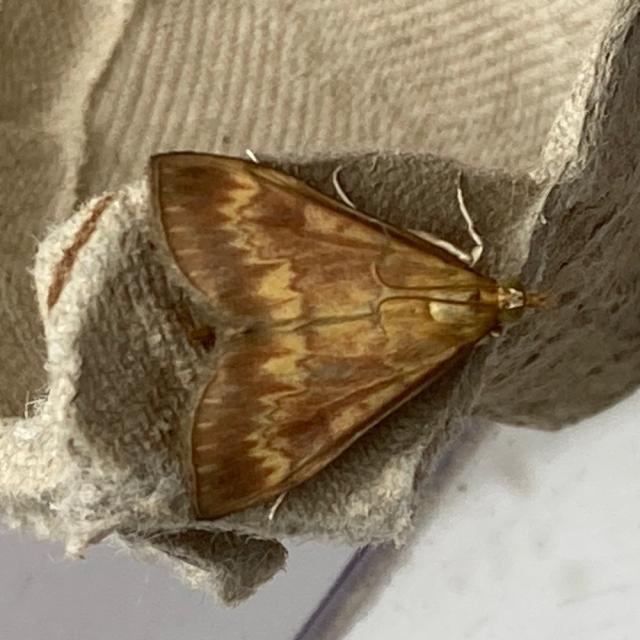cornborer-Adult-: (138, 134, 537, 526)
